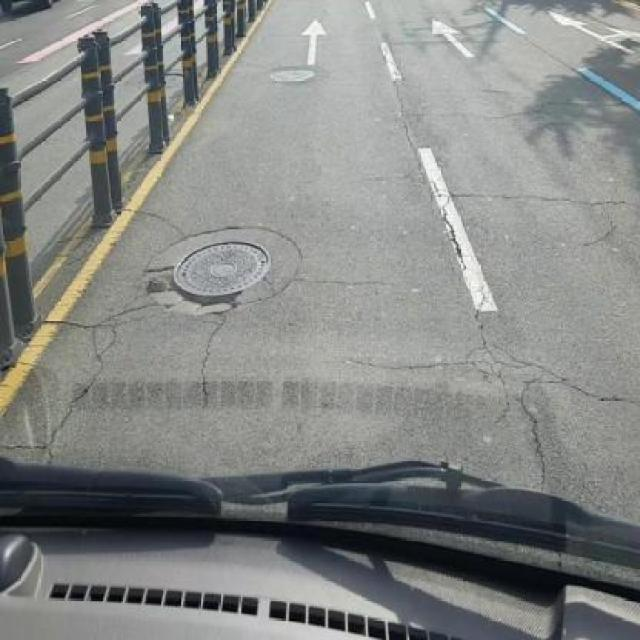Manhole: (174, 238, 273, 298), (264, 62, 322, 84)
Pothole: (192, 294, 246, 316), (144, 276, 170, 295)
